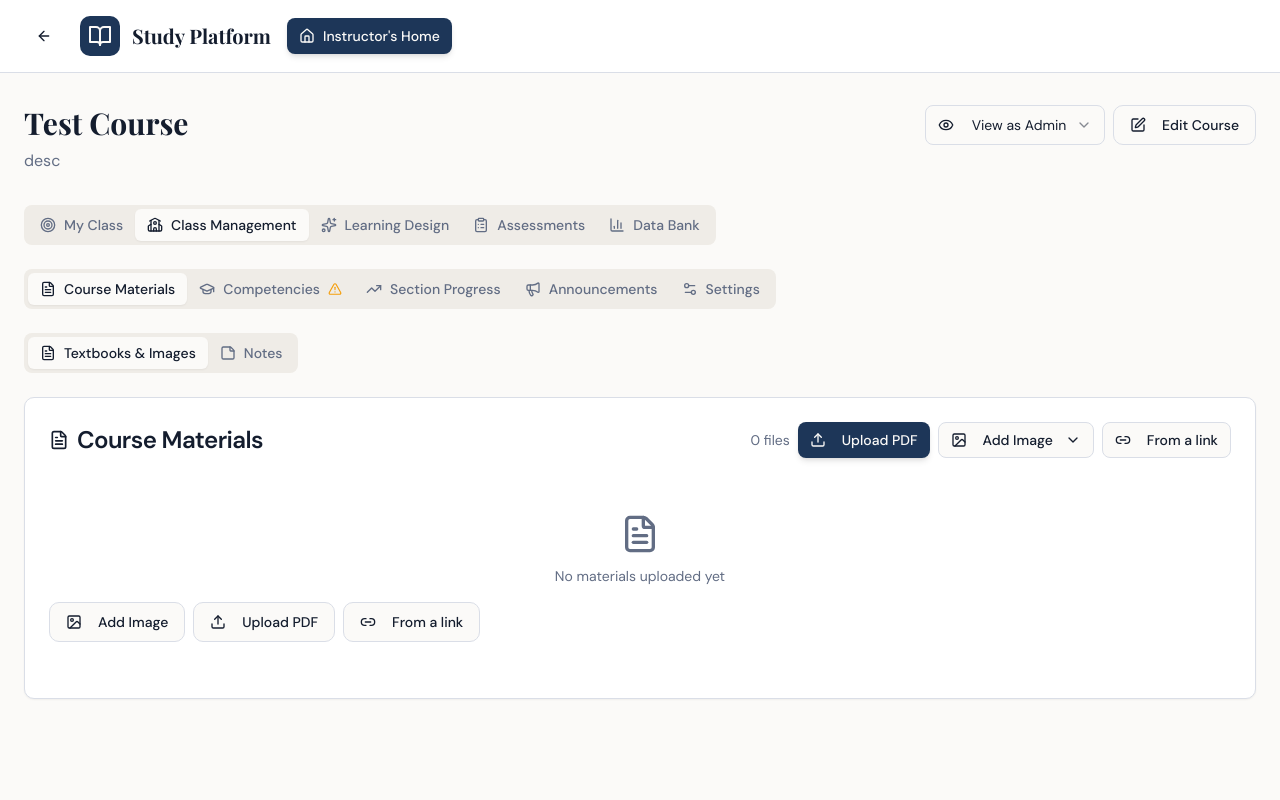
Test: CoursePage — Learning Design AI Chatbots sub-tab (#618, #660) › renders the AI Interactive Questions sub-tab inside the AI Chatbots group
Click the tab "Learning Design" at (385, 225), box top-left (308, 209), bottom-right (461, 241)
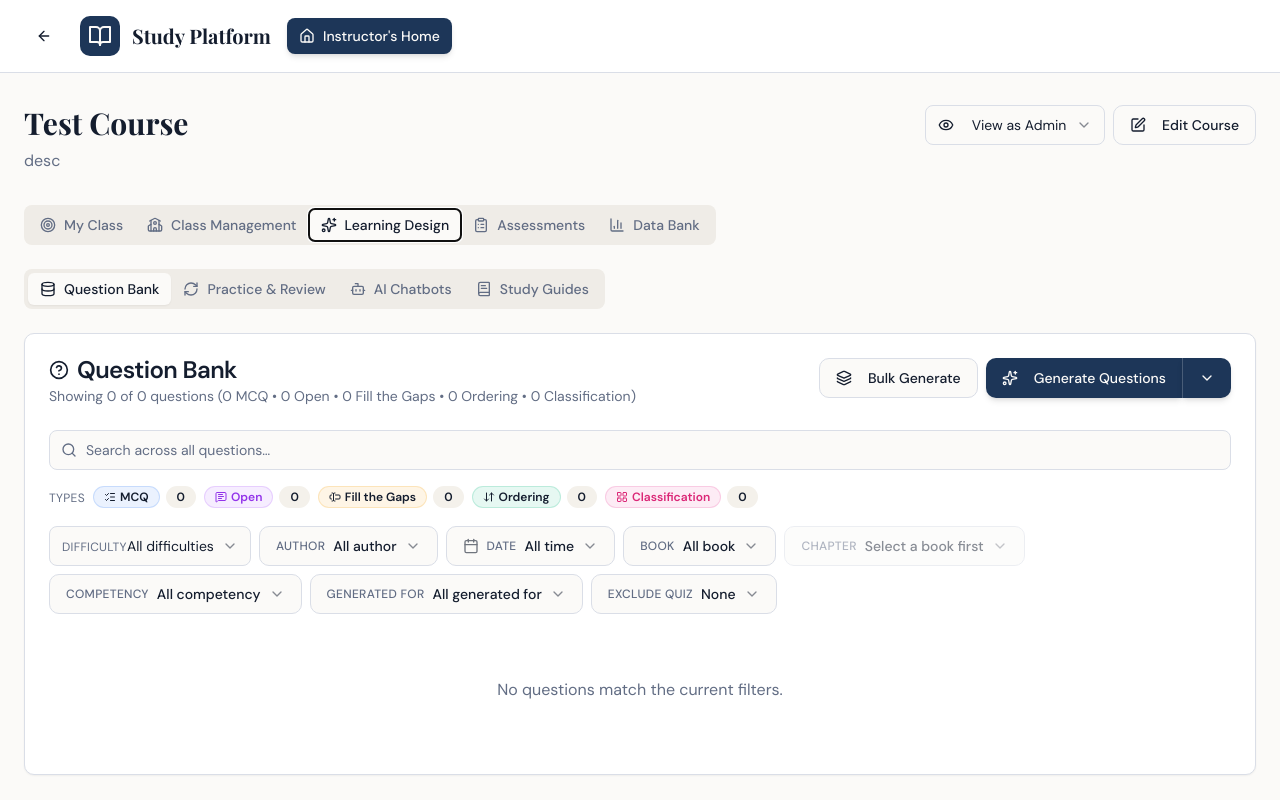
Click the tab "AI Chatbots" at (401, 289), box top-left (338, 273), bottom-right (464, 305)
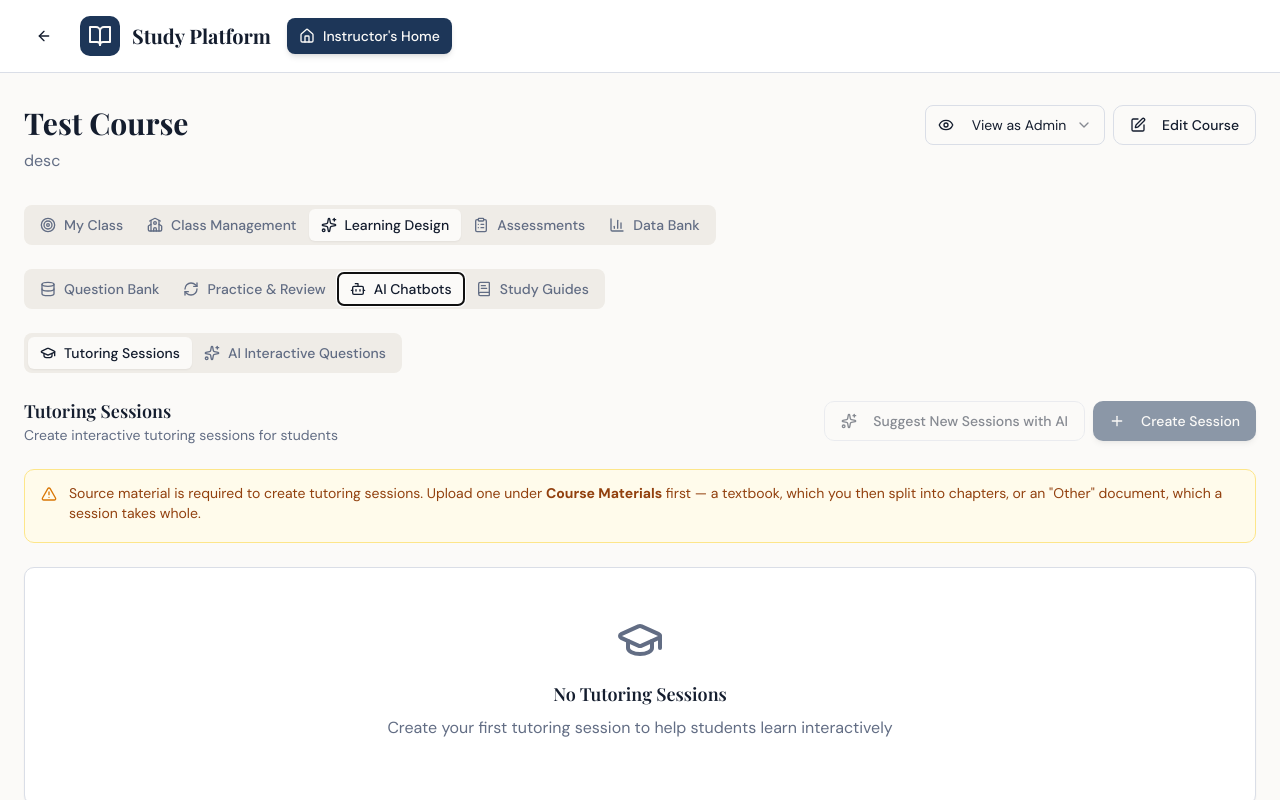
Expected: the tab "AI Interactive Questions" is shown, top-left (192, 337), bottom-right (398, 369)
